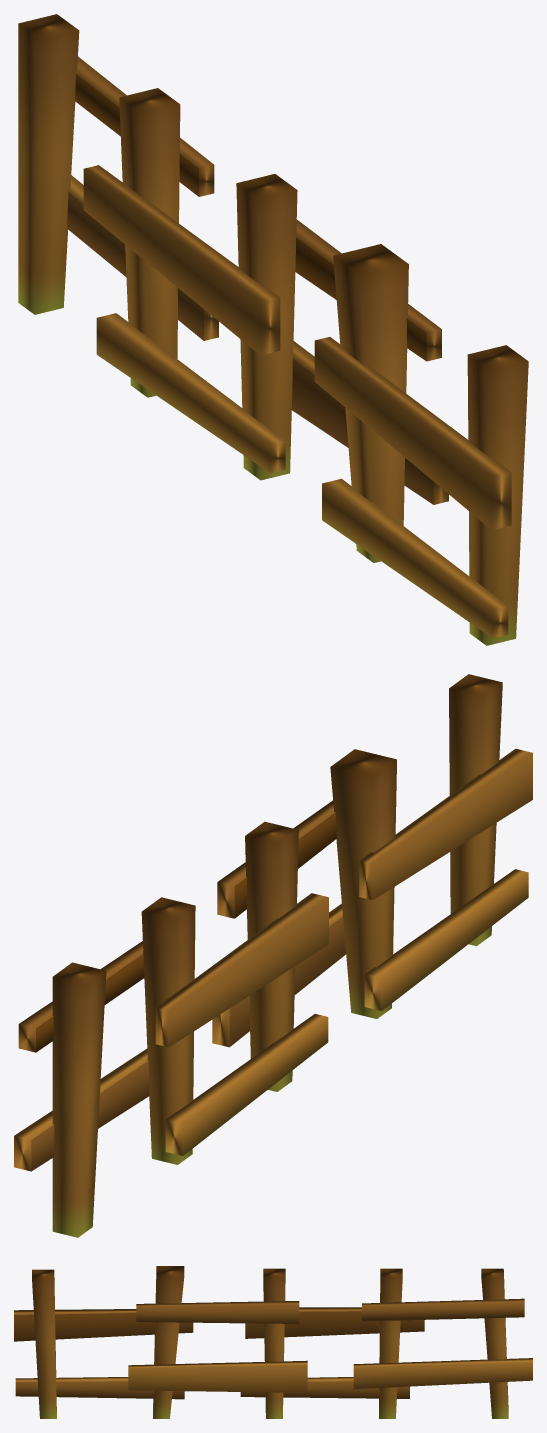
Rendered from fenceLong.fbx.
The picture shows the model from 3 angles, top to bottom: view 1: azimuth 30°, elevation 25°; view 2: azimuth 150°, elevation 25°; view 3: azimuth 270°, elevation 25°; orthographic projection. The views are drawn at different scales.
Parts seen in each view (by area): view 1: fenceLong; view 2: fenceLong; view 3: fenceLong.
Boxes of the visible parts, x1,y1,x2,y2 form: fenceLong: [18, 14, 528, 645]; fenceLong: [14, 674, 532, 1237]; fenceLong: [14, 1266, 532, 1418].
Size of the model in its own units: 37.12 by 140 by 459.
